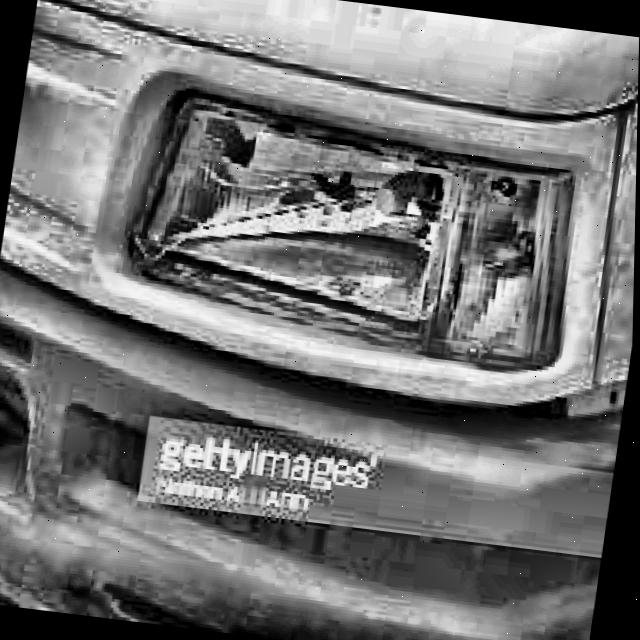head_lamp: (133, 90, 591, 376)
